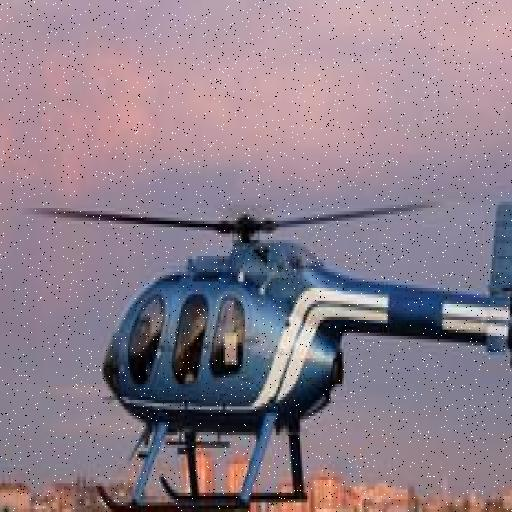helicopter: (41, 135, 512, 512)
